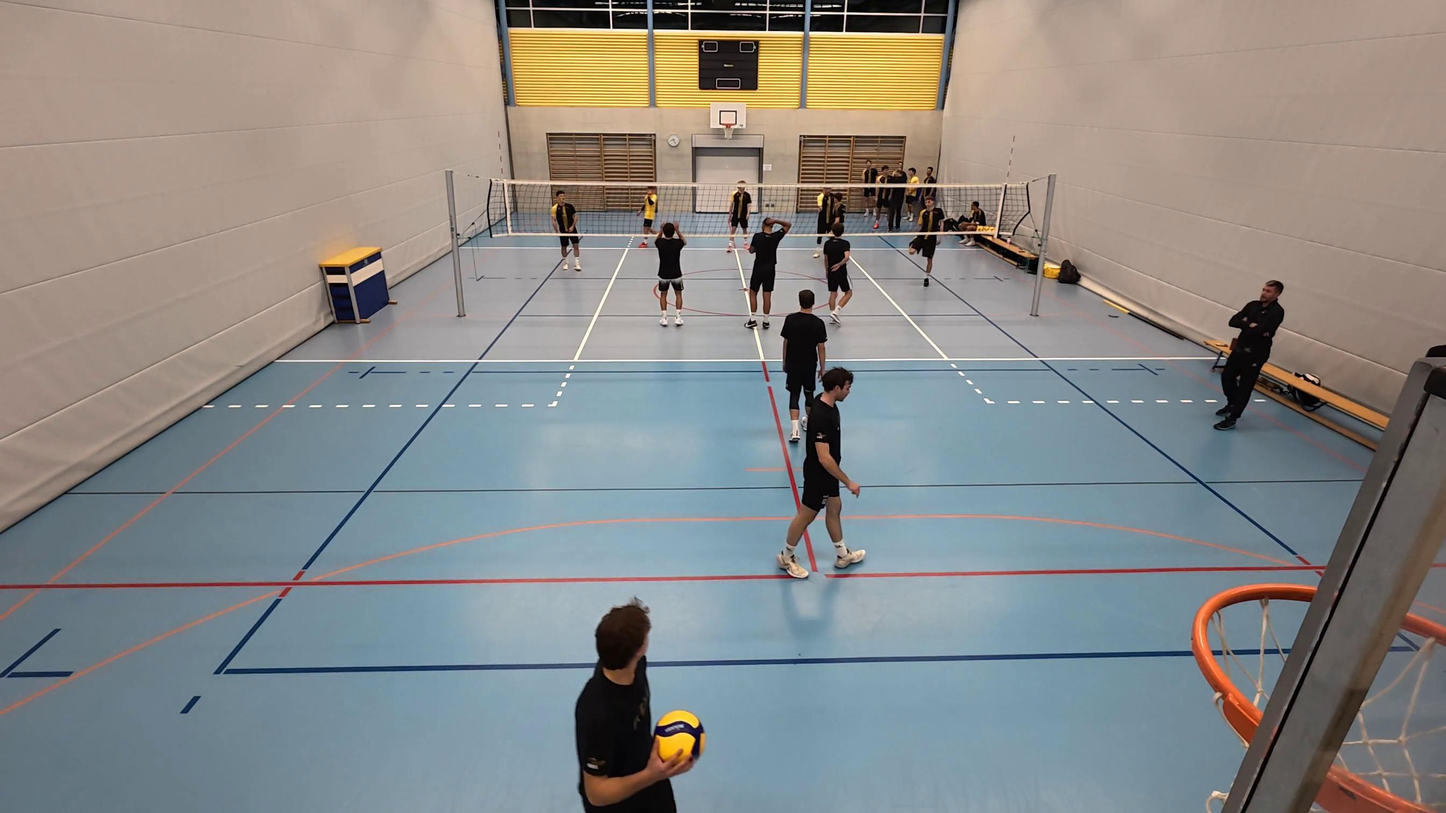Player: (572, 600, 681, 813), (776, 368, 867, 579), (781, 288, 828, 444), (743, 215, 790, 332), (649, 219, 687, 328), (821, 219, 856, 327), (904, 195, 941, 288), (552, 189, 583, 272), (812, 184, 841, 260), (632, 185, 663, 251), (727, 181, 752, 253), (818, 192, 848, 252)
ball: (650, 708, 703, 772)
